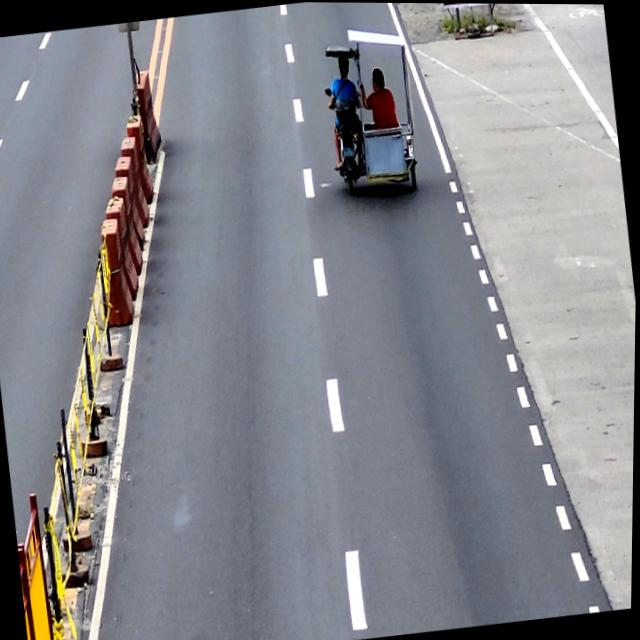License-Plate: (343, 146, 356, 158)
Tricycle: (321, 37, 424, 198)
